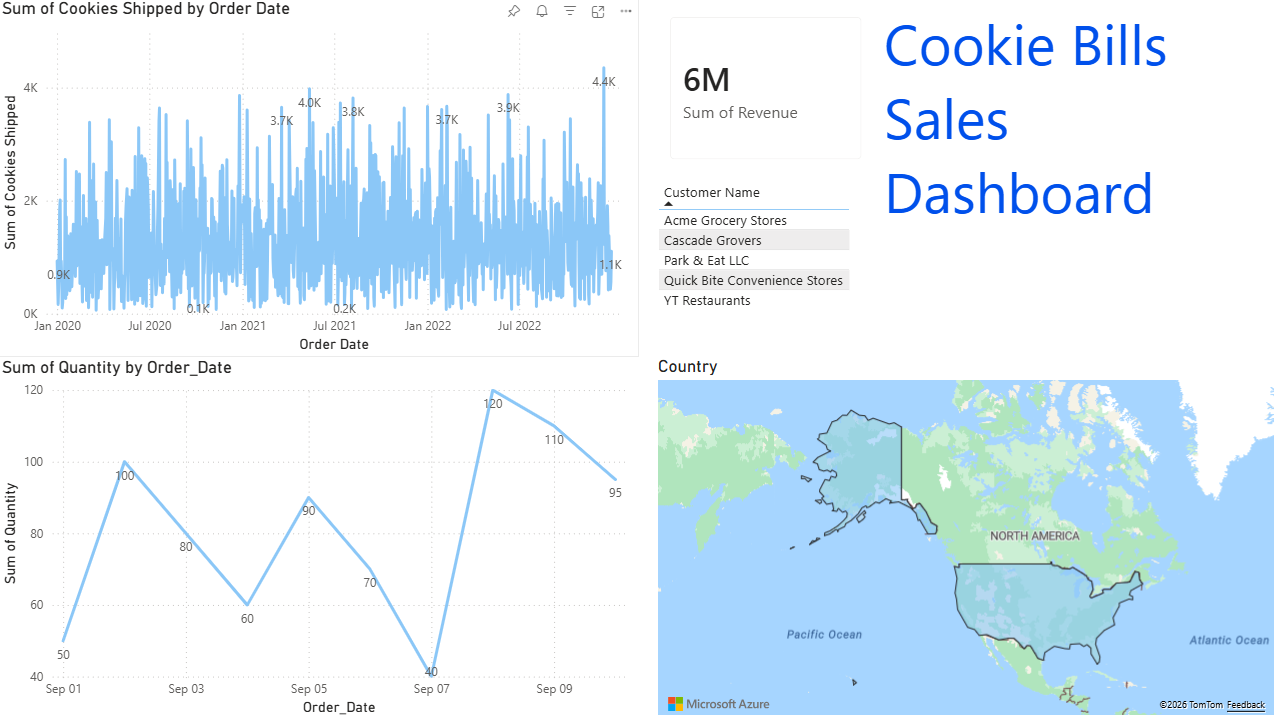

Layout of this report page (visuals, bound fields, positions):
{"tool":"powerbi","page":{"name":"Cookie Bills Sales ","canvas":[1280,720],"ordinal":0},"visuals":[{"type":"lineChart","fields":{"Y":["Sum(Orders1.Cookies Shipped)"],"Category":["Orders1.Order Date"]},"box":[0,0,640,357.9],"z":0},{"type":"lineChart","fields":{"Category":["Orders.Order_Date"],"Y":["Sum(Orders.Quantity)"]},"box":[0,357.9,640,361.8],"z":1},{"type":"cardVisual","fields":{"Data":["Sum(Orders1.Revenue)"]},"box":[654.7,2,225.7,176.9],"z":2},{"type":"tableEx","fields":{"Values":["Customers2.Customer Name"]},"box":[654.7,178.8,225.7,178.8],"z":3},{"type":"azureMap","fields":{"Category":["Customers2.Country"]},"box":[654.7,357.6,625.3,362.5],"z":4},{"type":"textbox","box":[880.4,2,399.6,357.6],"z":5}]}

Visuals, with their boxes in screenshot pixels (x1, y1, x2, y2), scaled from the page's 1280x720 canvas onto the 1277x717 screenshot:
lineChart - Sum(Orders1.Cookies Shipped) x Orders1.Order Date: {"left": 0, "top": 0, "right": 638, "bottom": 356}
lineChart - Orders.Order_Date x Sum(Orders.Quantity): {"left": 0, "top": 356, "right": 638, "bottom": 716}
cardVisual - Sum(Orders1.Revenue): {"left": 653, "top": 2, "right": 878, "bottom": 178}
tableEx - Customers2.Customer Name: {"left": 653, "top": 178, "right": 878, "bottom": 356}
azureMap - Customers2.Country: {"left": 653, "top": 356, "right": 1276, "bottom": 716}
textbox: {"left": 878, "top": 2, "right": 1276, "bottom": 358}
